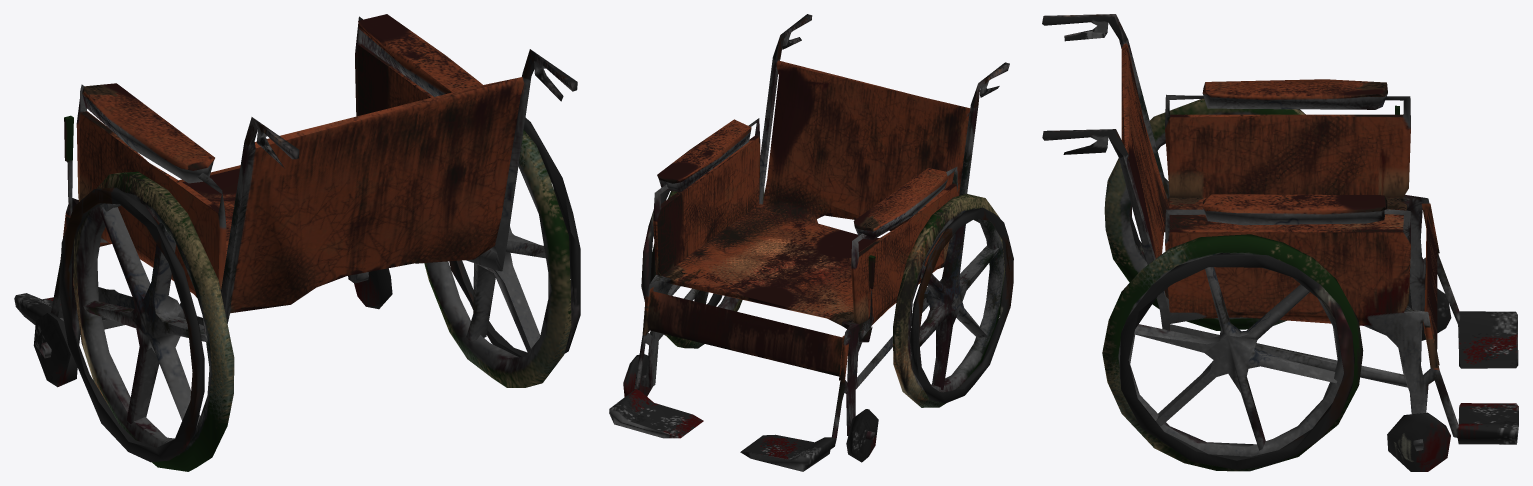
File: Creslo.fbx
3 views of the same model, side by side, from view 1: azimuth 30°, elevation 25°; view 2: azimuth 150°, elevation 25°; view 3: azimuth 270°, elevation 25° (orthographic). The views are drawn at different scales.
Parts seen in each view (by area): view 1: UnsavedScene_1; view 2: UnsavedScene_1; view 3: UnsavedScene_1.
Boxes of the visible parts, bbox=[...] form: UnsavedScene_1: bbox=[14, 14, 580, 471]; UnsavedScene_1: bbox=[609, 14, 1013, 471]; UnsavedScene_1: bbox=[1042, 14, 1518, 471].
Bounding box in the file's own units: 1375 × 1331 × 1726.
